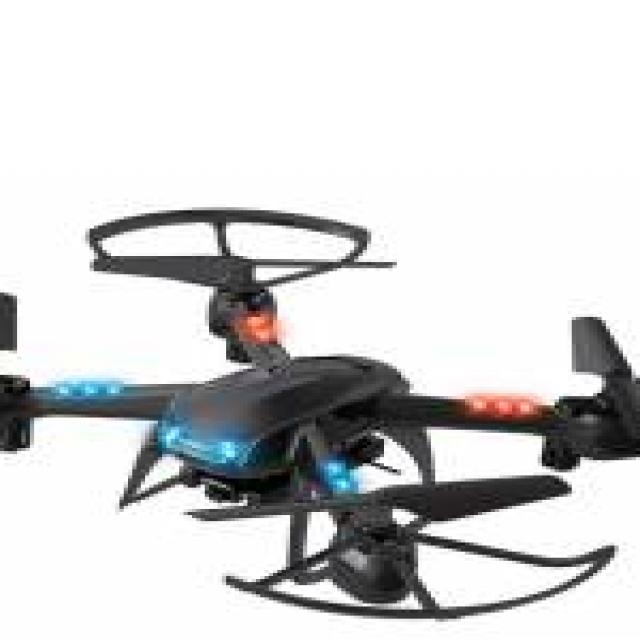drone: (0, 213, 640, 619)
